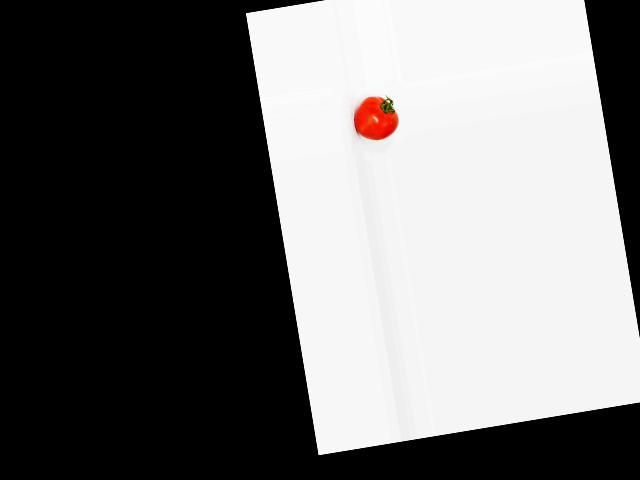tomato: (350, 93, 401, 143)
